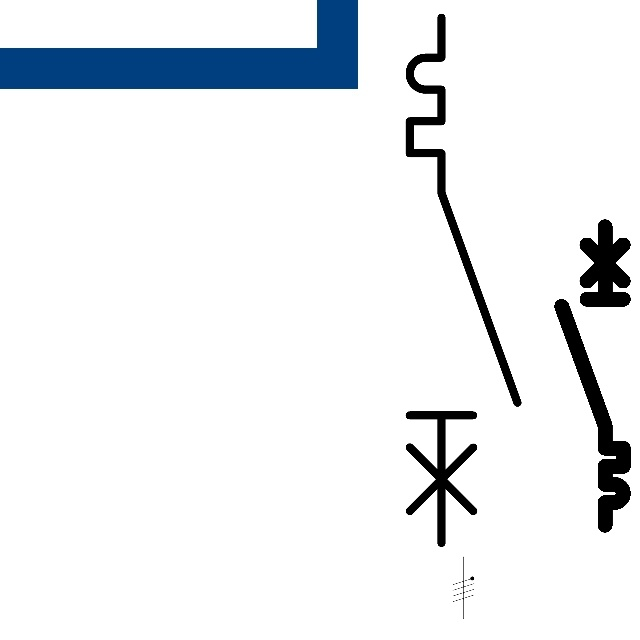interruptor_termomagnetico: (396, 4, 531, 556), (554, 219, 631, 533)
